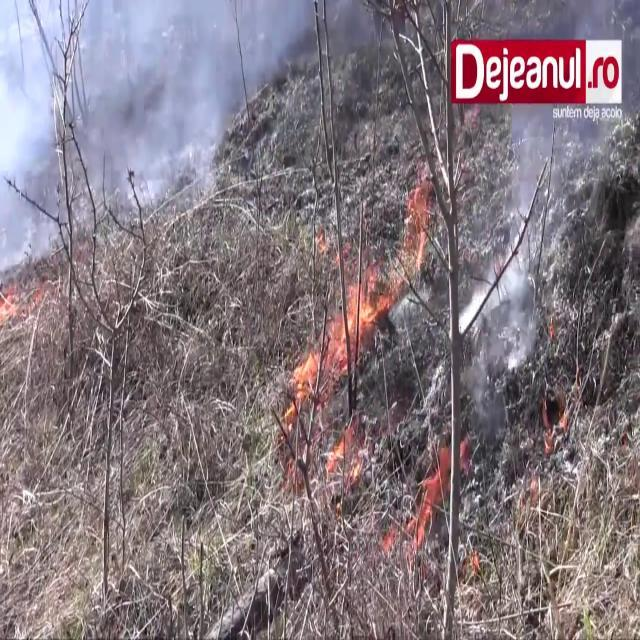Fire: (290, 262, 378, 430)
Smoke: (0, 0, 290, 276), (489, 106, 567, 370)
